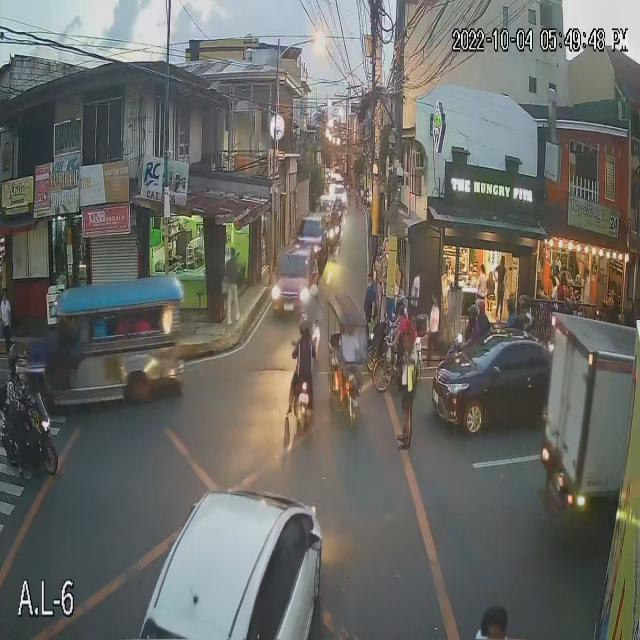helmet: (292, 310, 321, 341), (6, 346, 21, 377), (466, 302, 484, 326), (502, 289, 520, 311), (474, 297, 491, 317), (307, 282, 323, 297)
motorcycle: (0, 397, 59, 481), (271, 364, 322, 439)
rider: (280, 316, 321, 398), (0, 341, 31, 432), (296, 279, 328, 342), (459, 302, 482, 353), (497, 292, 518, 347), (471, 293, 493, 345)
